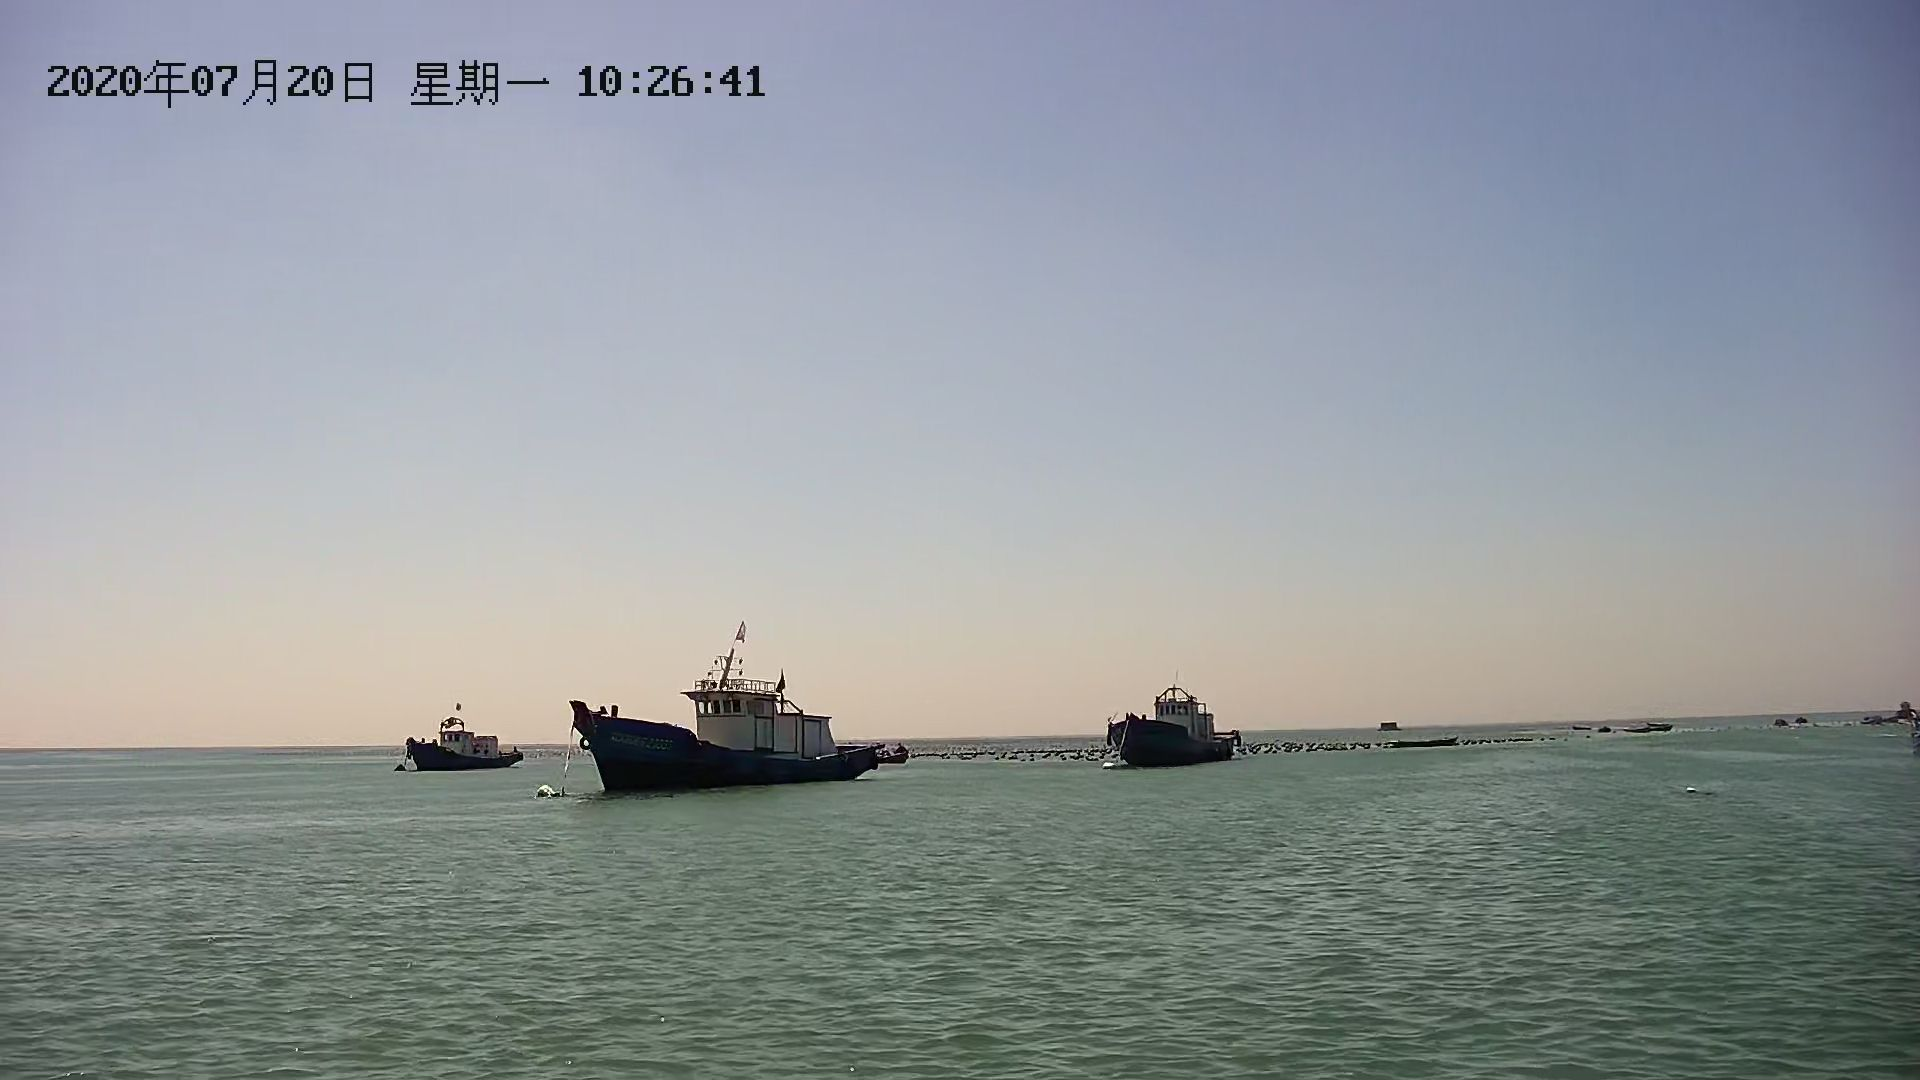rubbish: (531, 779, 555, 804)
ship: (567, 665, 884, 794), (1104, 694, 1249, 767), (382, 709, 529, 775)
